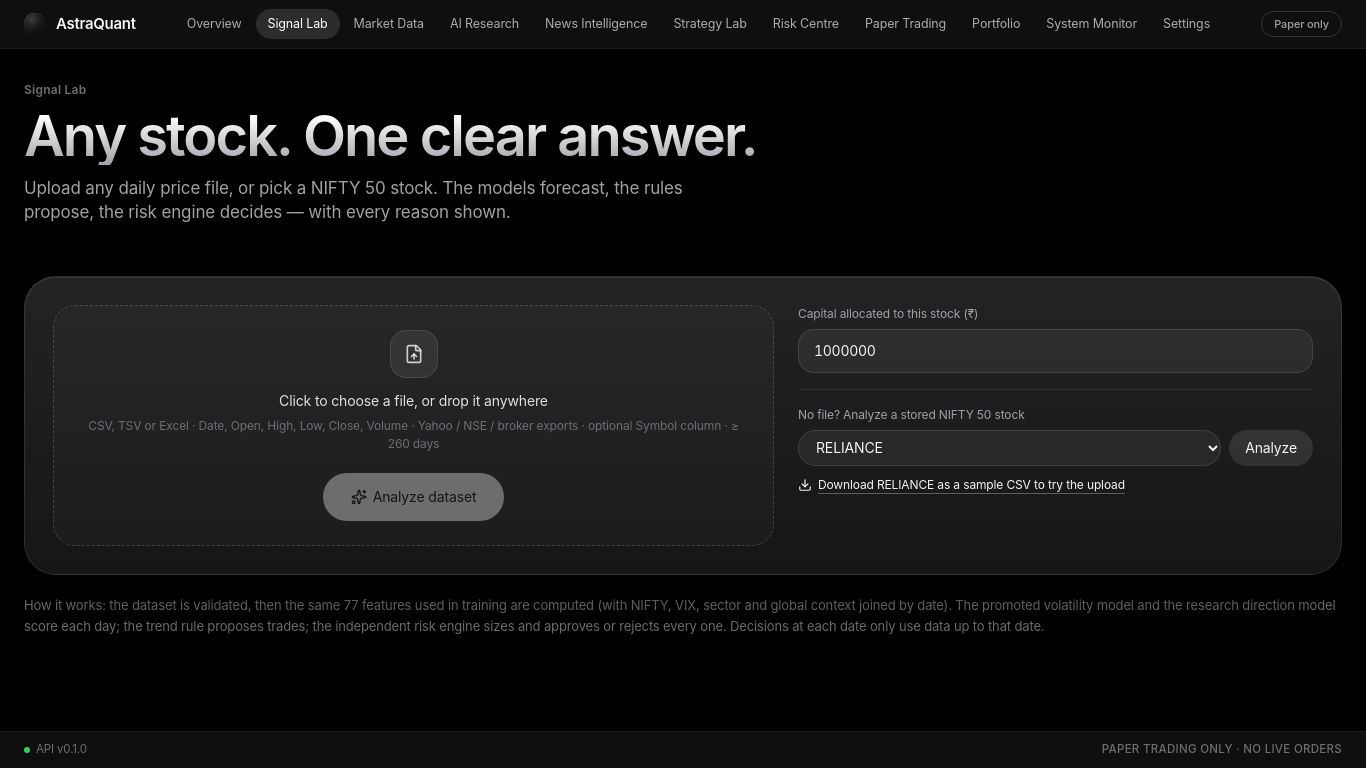
Test: Signal Lab › analyzes a stored stock and shows a risk-evaluated verdict, drivers and checks
Step 1. Click the button "Analyze" → (1271, 448), box x1=1229 y1=430 x2=1313 y2=466
(page scrolled)
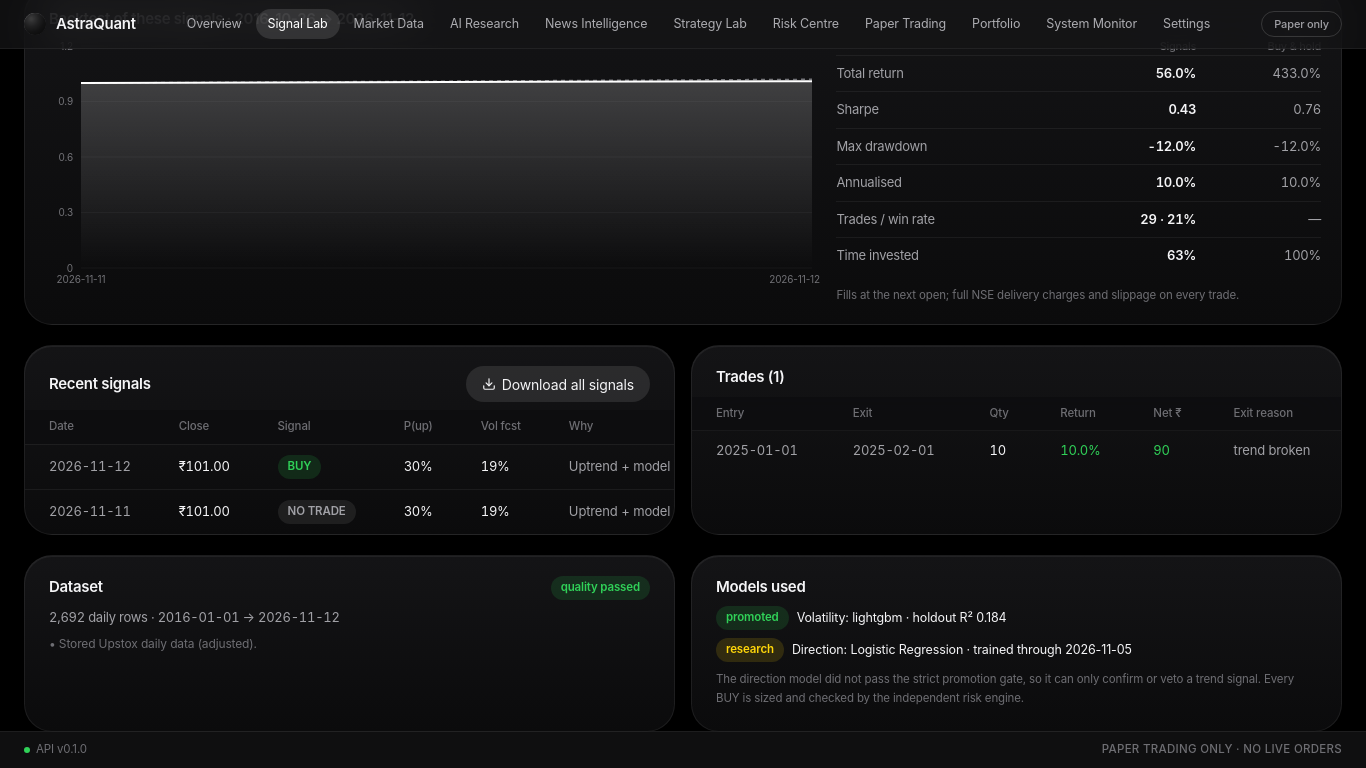
Now the button "Download all signals" is shown, box x1=466 y1=366 x2=650 y2=402
